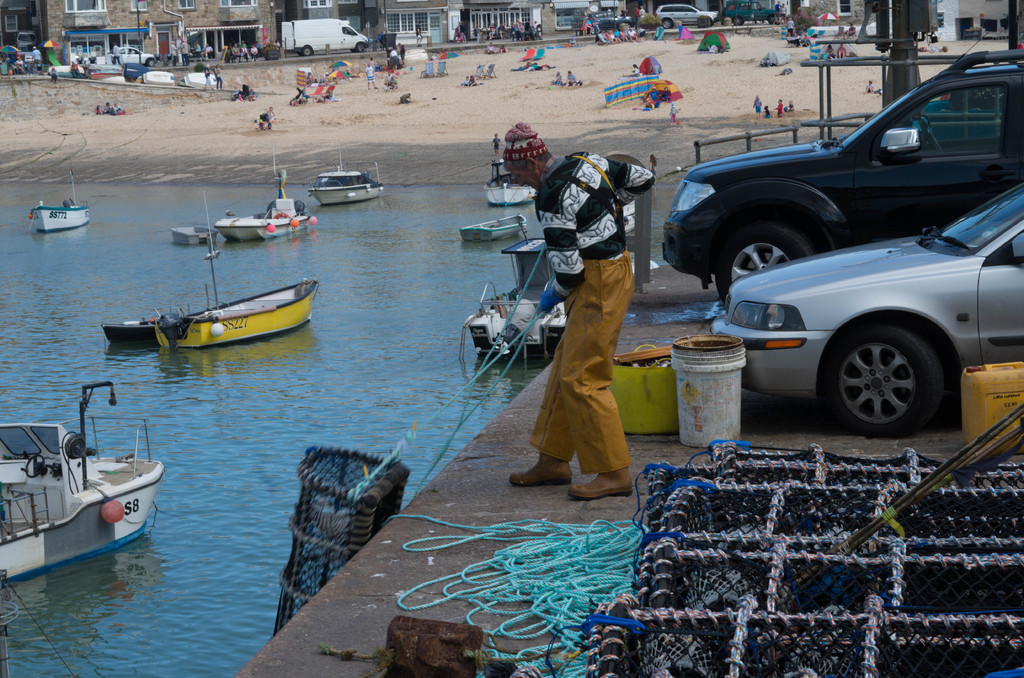Car: (659, 44, 1023, 306), (654, 0, 714, 27), (584, 8, 634, 32), (111, 42, 157, 68), (717, 0, 772, 21), (14, 28, 37, 46), (17, 41, 33, 52)
